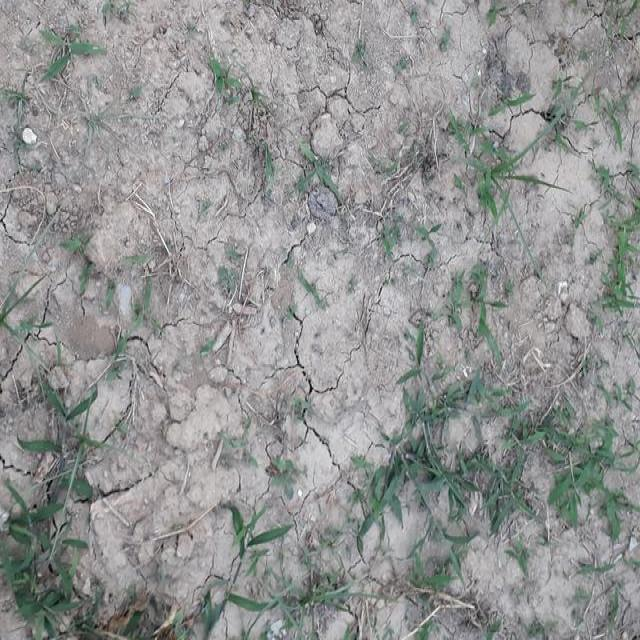weed: (348, 388, 551, 591), (454, 136, 554, 230), (2, 497, 53, 634), (37, 398, 101, 507), (556, 427, 608, 529), (38, 17, 100, 92), (214, 510, 289, 550), (609, 216, 637, 314), (290, 150, 342, 198), (206, 61, 241, 100)
